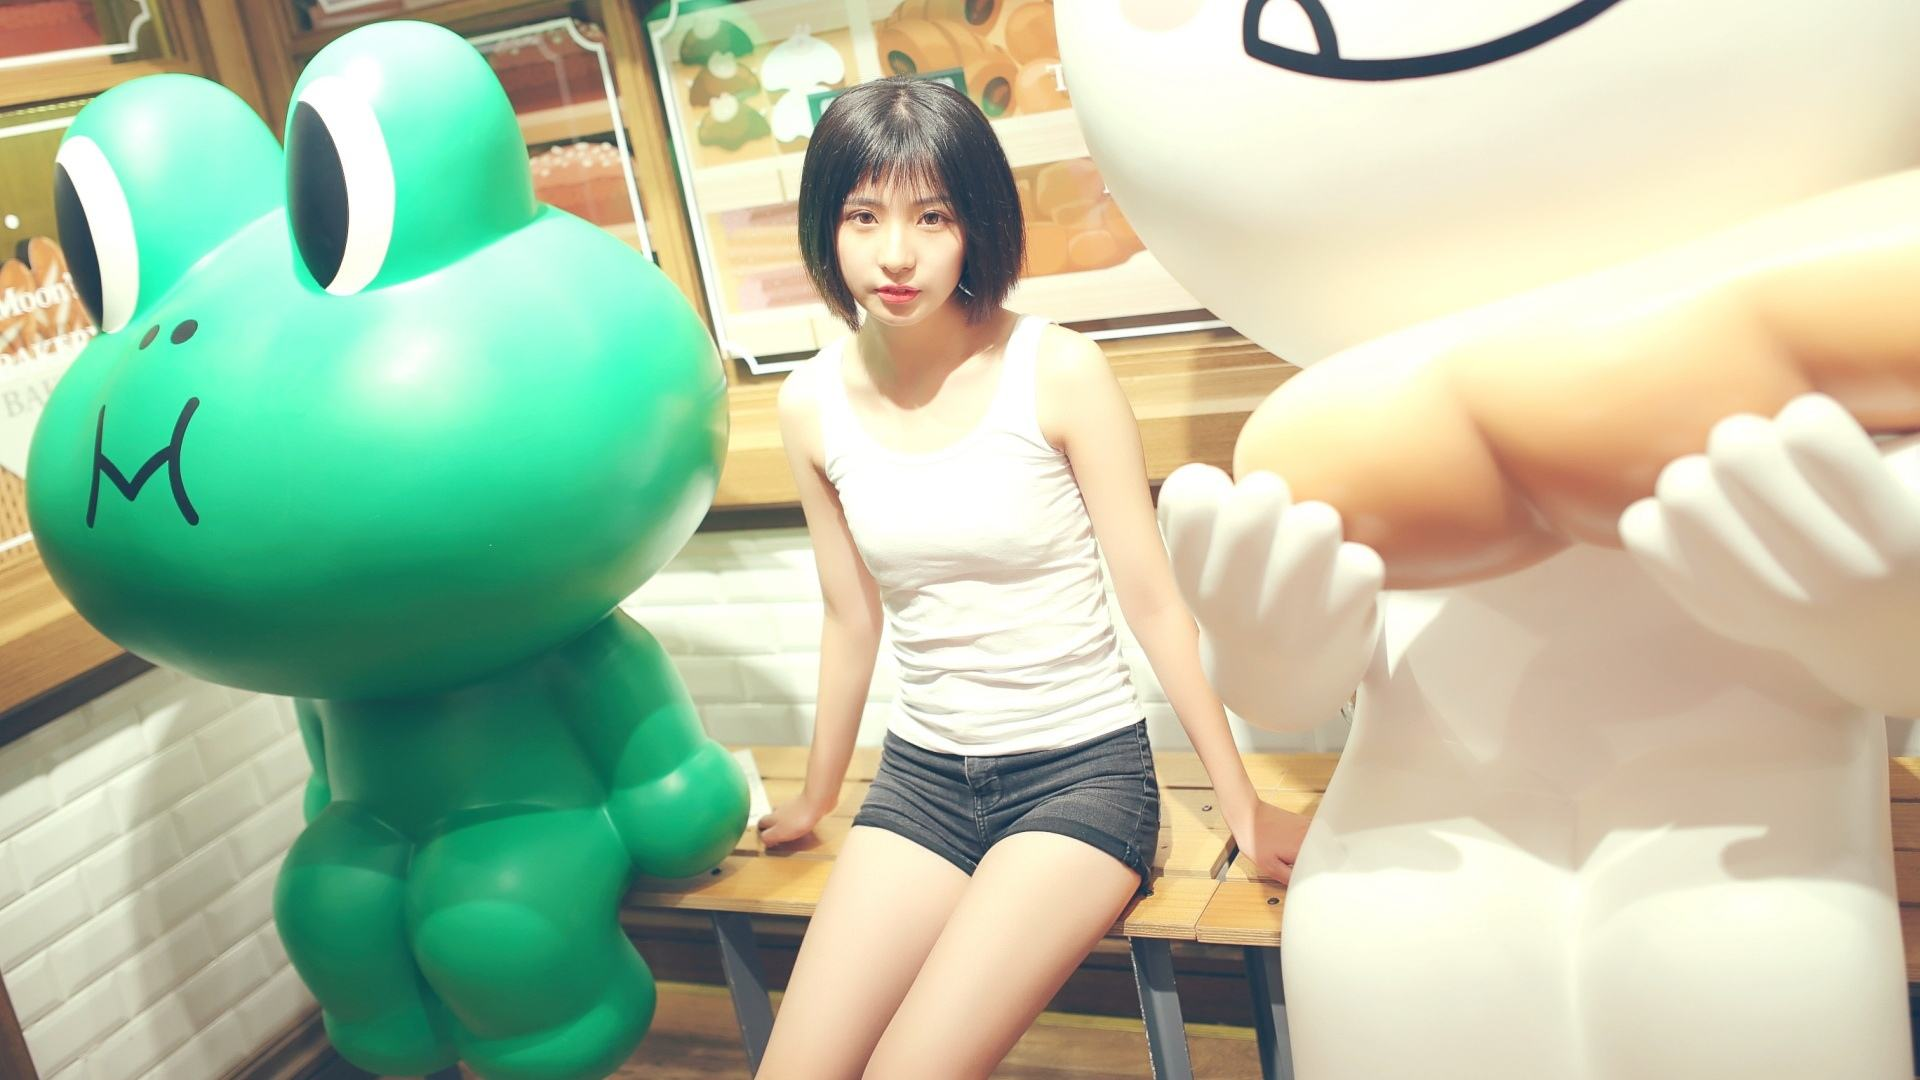person: (758, 75, 1226, 938)
